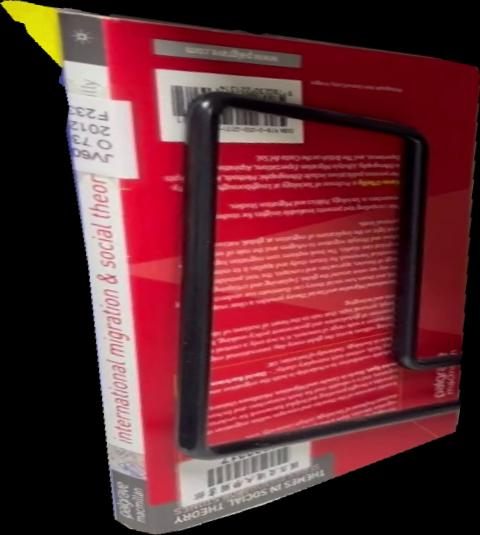reverse: (1, 1, 480, 535)
